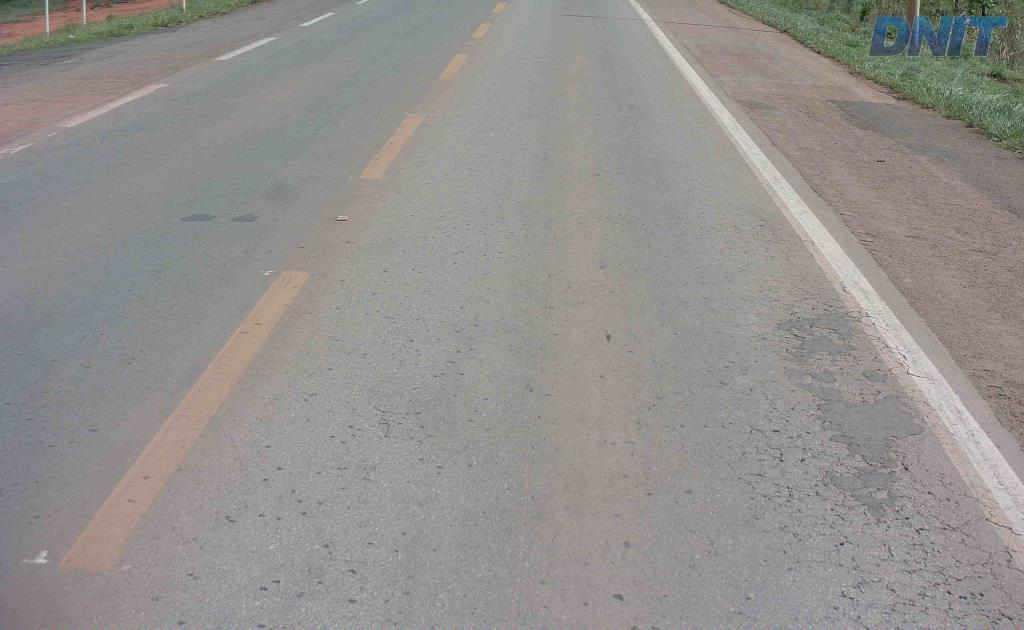crack: (846, 434, 900, 481), (782, 311, 819, 360)
